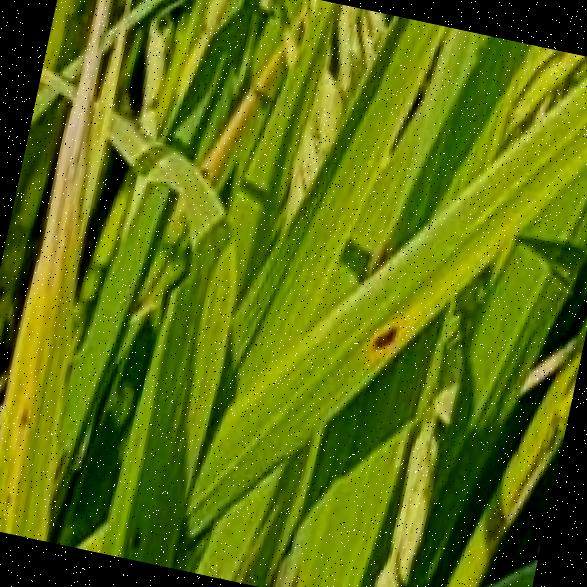Brown_Spot: (356, 304, 404, 358)
